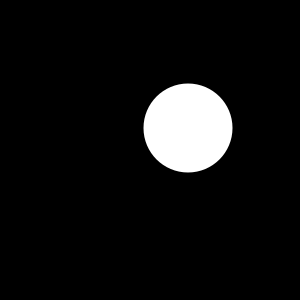rectangle: (144, 84, 232, 173)
